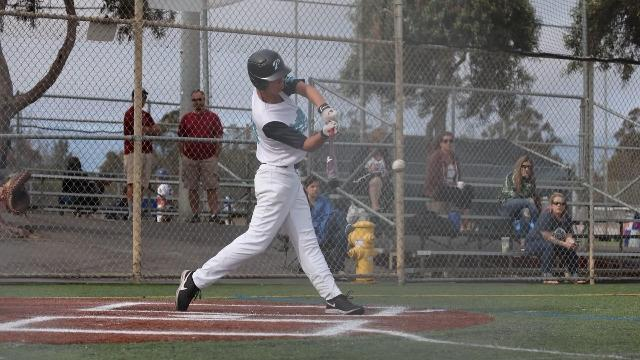baseball bat: (324, 128, 342, 188)
sports ball: (392, 159, 408, 174)
